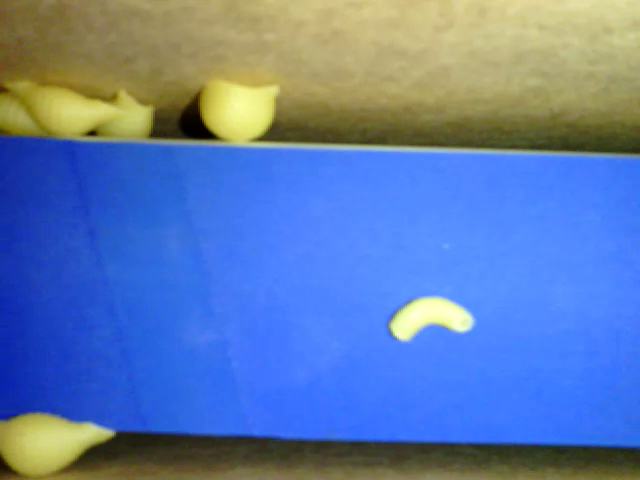elbow: (382, 294, 477, 349)
shell: (1, 80, 129, 137), (1, 412, 115, 473), (199, 80, 279, 147), (93, 89, 154, 139), (1, 93, 50, 139)
